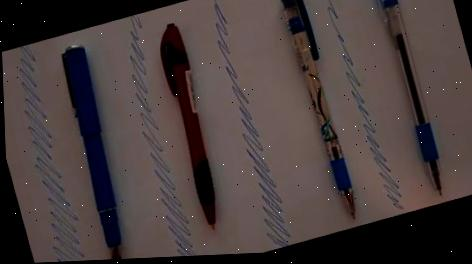pen-pencil: (282, 0, 354, 217), (62, 46, 120, 259), (377, 0, 439, 190), (66, 46, 120, 259), (162, 23, 213, 223)
